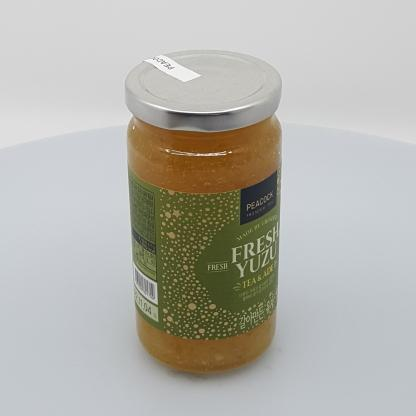------------420G: (125, 49, 282, 374)
